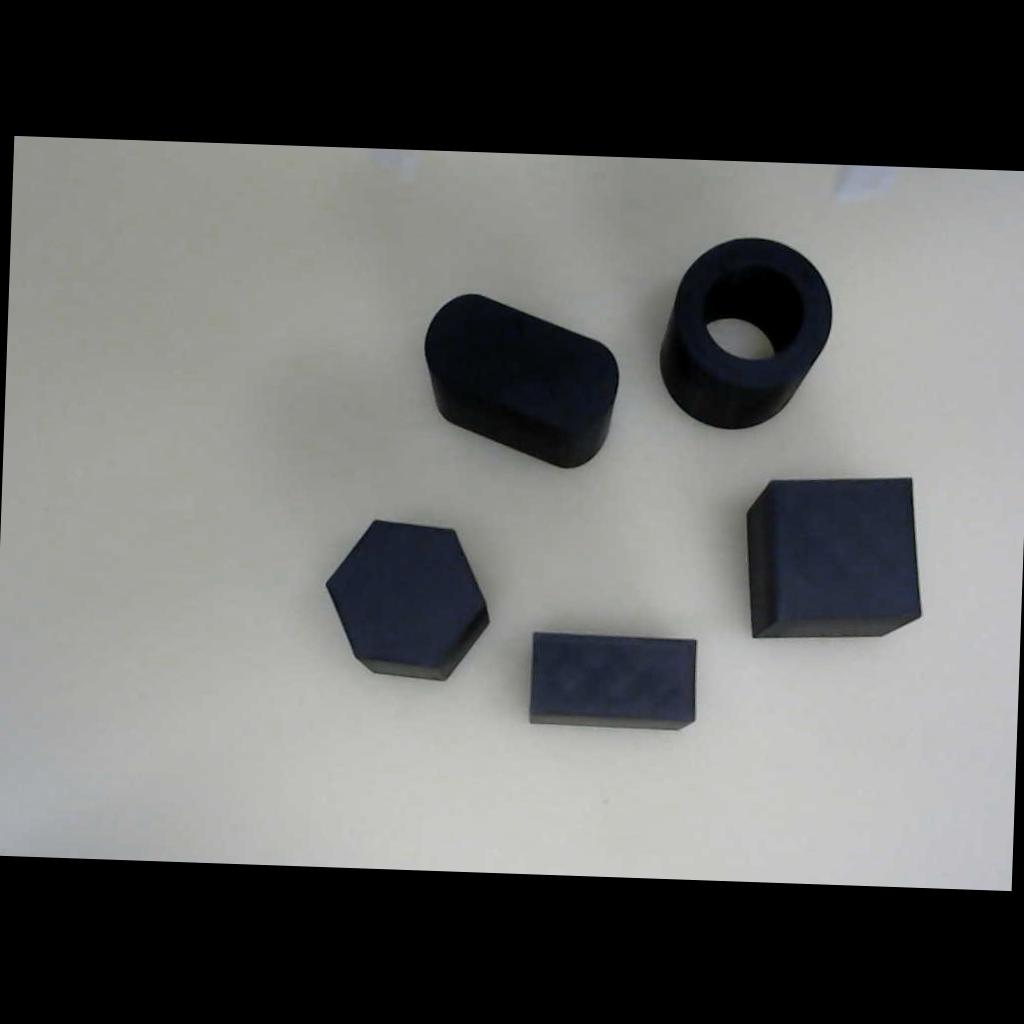hexagon: (305, 502, 507, 694)
oval: (380, 267, 656, 499)
rectangle: (517, 621, 708, 738)
ring: (648, 224, 843, 439)
square: (722, 456, 948, 658)
